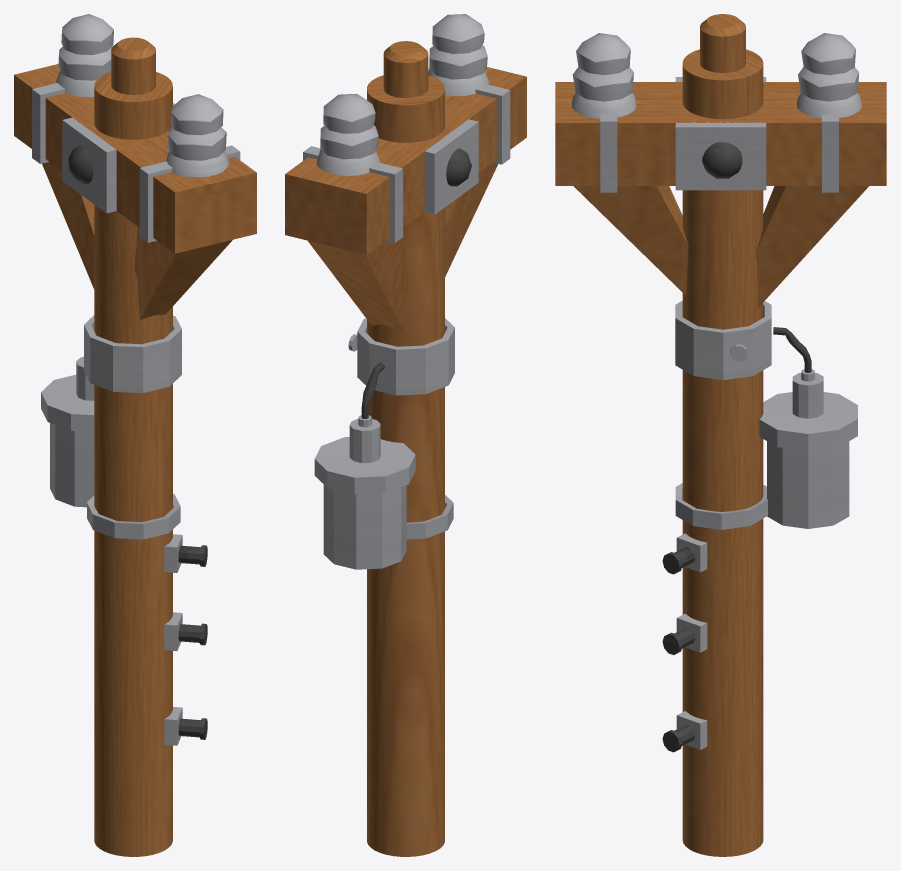
Rendered from elektrik direği yeni.fbx.
3 views of the same model, side by side, from view 1: azimuth 30°, elevation 25°; view 2: azimuth 150°, elevation 25°; view 3: azimuth 270°, elevation 25° (orthographic). The views are drawn at different scales.
Visible parts, largest first — view 1: Cylinder; view 2: Cylinder; view 3: Cylinder.
Boxes of the visible parts, left/top/right/bottom form: Cylinder: left=14, top=14, right=256, bottom=856; Cylinder: left=285, top=14, right=526, bottom=856; Cylinder: left=555, top=14, right=886, bottom=856.
Bounding box in the file's own units: 53.09 × 318 × 117.
Materials: 1 (1 with a texture image).
